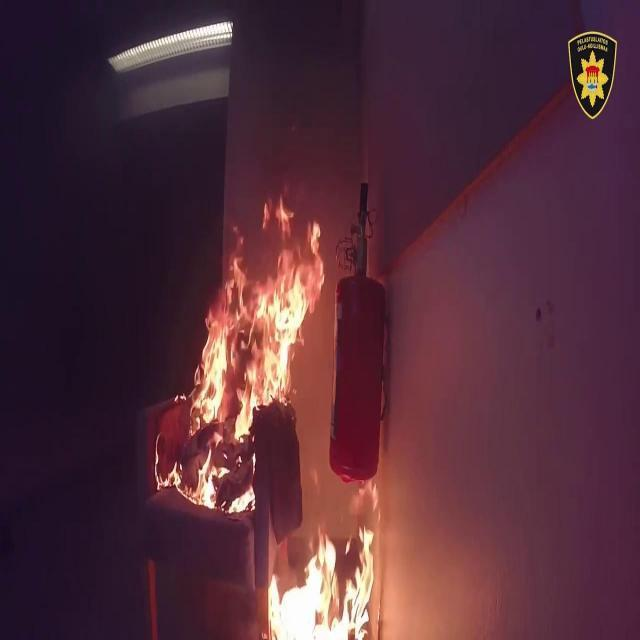Fire: (159, 196, 324, 526), (270, 530, 382, 640)
